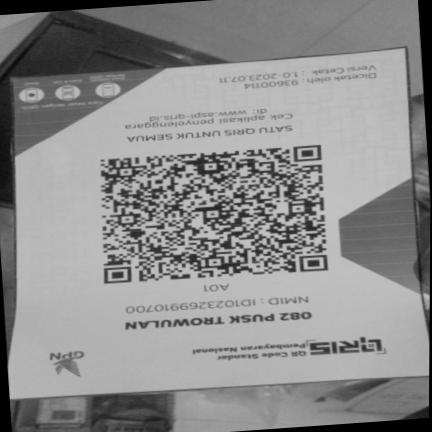Cara Pakai QRIS: (15, 72, 132, 112)
Cek Aplikasi Penyelenggara: (120, 103, 297, 131)
Dicetak Oleh: (239, 71, 382, 90)
Logo GPN: (44, 345, 94, 381)
Logo dan deskripsi QRIS: (187, 332, 394, 370)
Nama Merchant: (120, 308, 318, 332)
National Merchant ID: (119, 292, 315, 316), (193, 280, 237, 294)
QR Code: (96, 141, 336, 286)
Slogan: (121, 123, 297, 144)
Versi Cetak: (217, 62, 381, 84)
